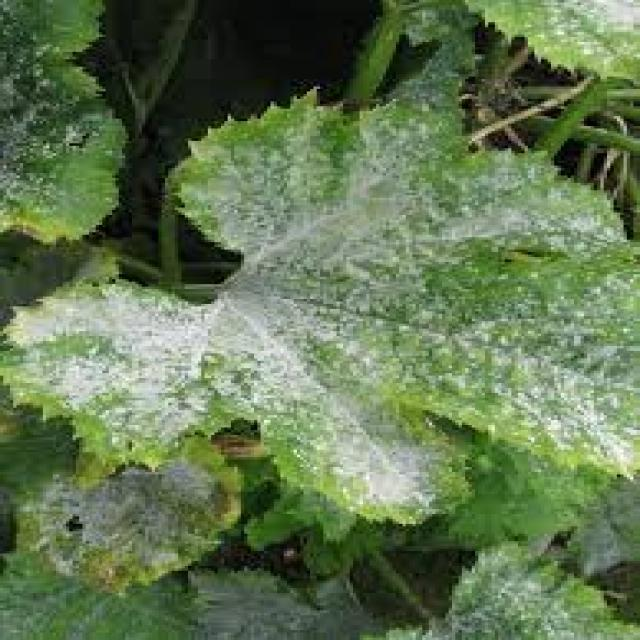powdery_mildew: (28, 61, 628, 581)
